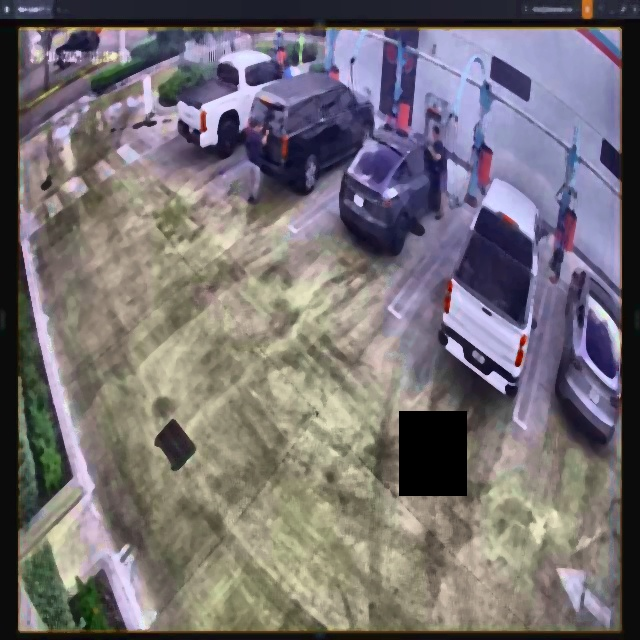Car: (440, 179, 545, 397), (246, 73, 374, 182), (339, 121, 443, 250), (178, 51, 303, 153)
